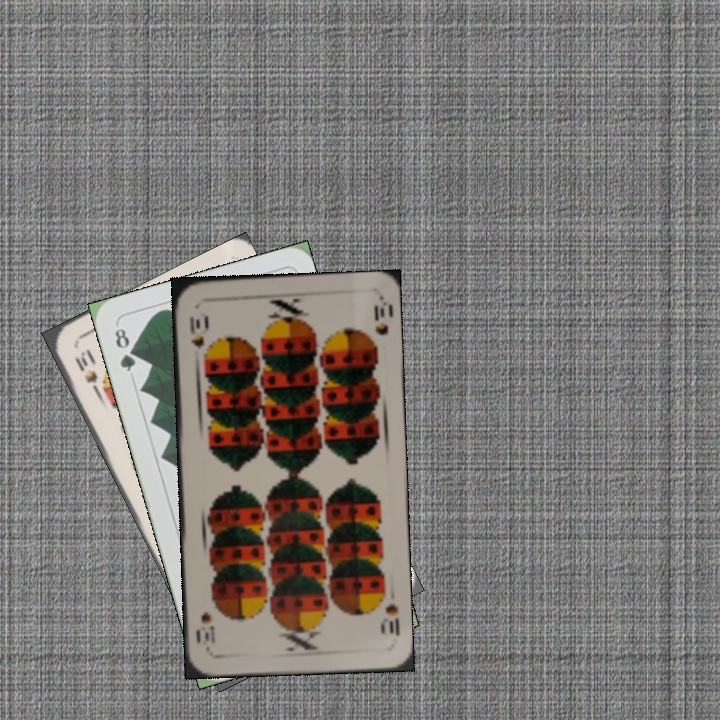G8: (110, 323, 139, 375)
S10: (71, 346, 104, 399), (377, 599, 402, 638), (186, 309, 207, 350)
